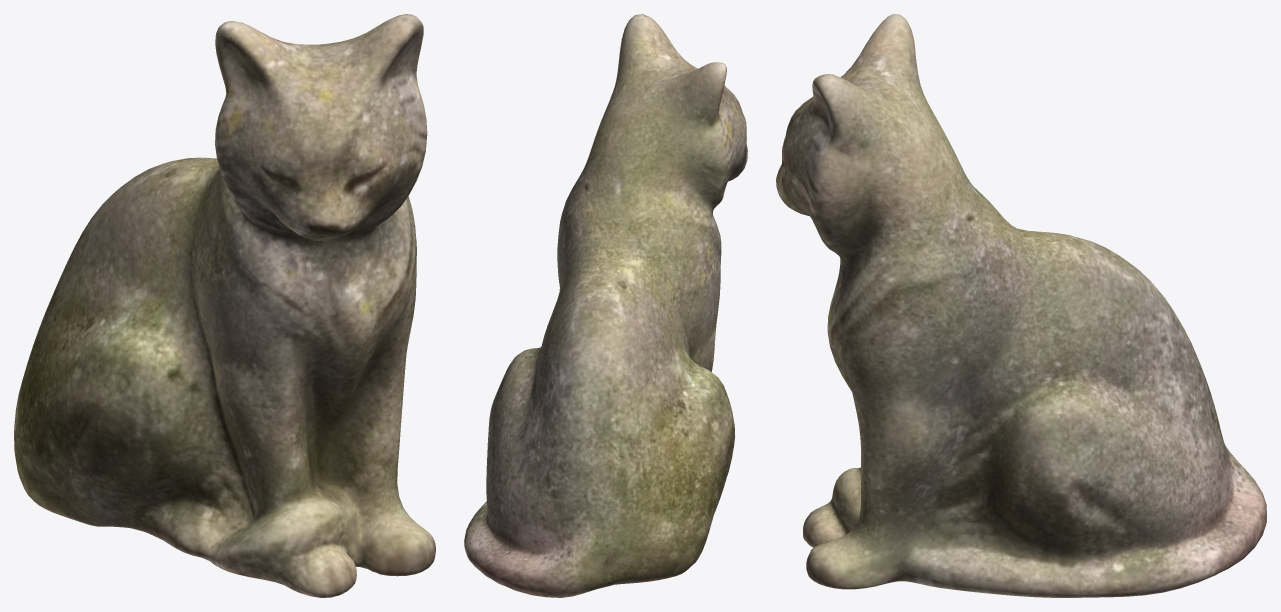
Rendered from concrete_cat_statue.glb.
3 views of the same model, side by side, from view 1: azimuth 30°, elevation 25°; view 2: azimuth 150°, elevation 25°; view 3: azimuth 270°, elevation 25° (orthographic). The views are drawn at different scales.
Parts seen in each view (by area): view 1: concrete_cat_statue; view 2: concrete_cat_statue; view 3: concrete_cat_statue.
Boxes of the visible parts, x1=… form: concrete_cat_statue: x1=14, y1=14, x2=435, y2=597; concrete_cat_statue: x1=464, y1=14, x2=747, y2=597; concrete_cat_statue: x1=776, y1=14, x2=1266, y2=597.
Bounding box in the file's own units: 0.153 × 0.283 × 0.25.
1 material, 1 textured.
